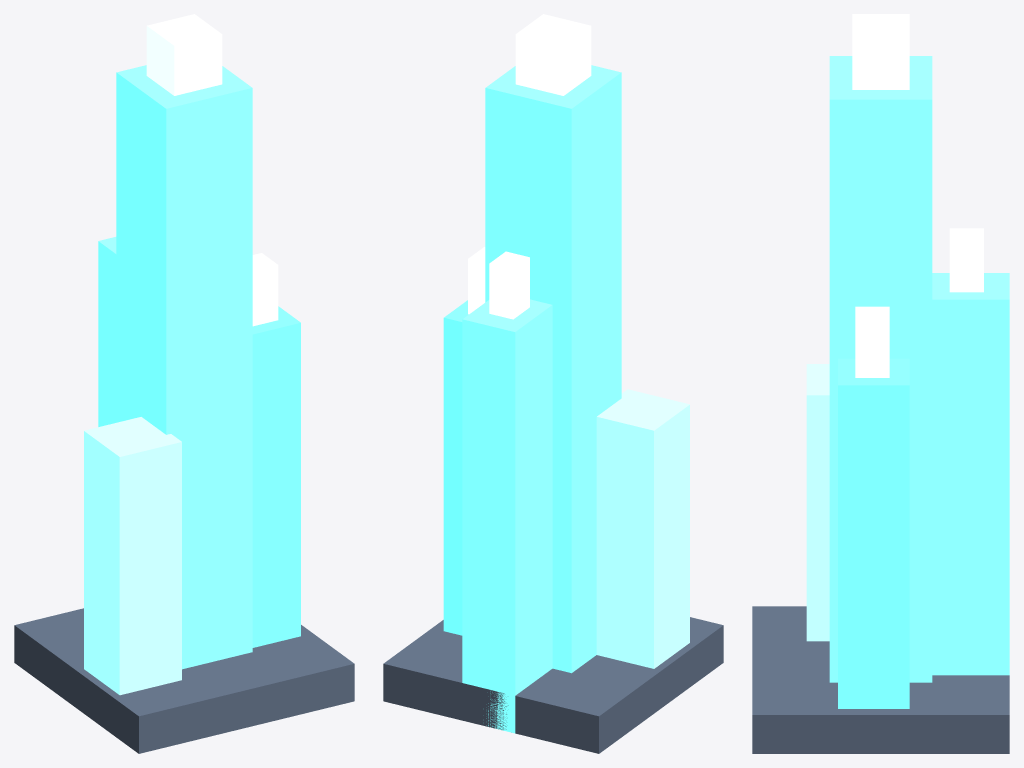
Rendered from ntu-crystal.glb.
3 renders of one model, left to right at view 1: azimuth 30°, elevation 25°; view 2: azimuth 150°, elevation 25°; view 3: azimuth 270°, elevation 25°, orthographic. The views are drawn at different scales.
Visible parts, largest first — view 1: box-prop; view 2: box-prop; view 3: box-prop.
Boxes of the visible parts, x1,y1,x2,y2 form: box-prop: (14,14,354,753); box-prop: (383,14,723,753); box-prop: (752,14,1009,753).
Bounding box in the file's own units: 0.9 × 2.6 × 0.9.
